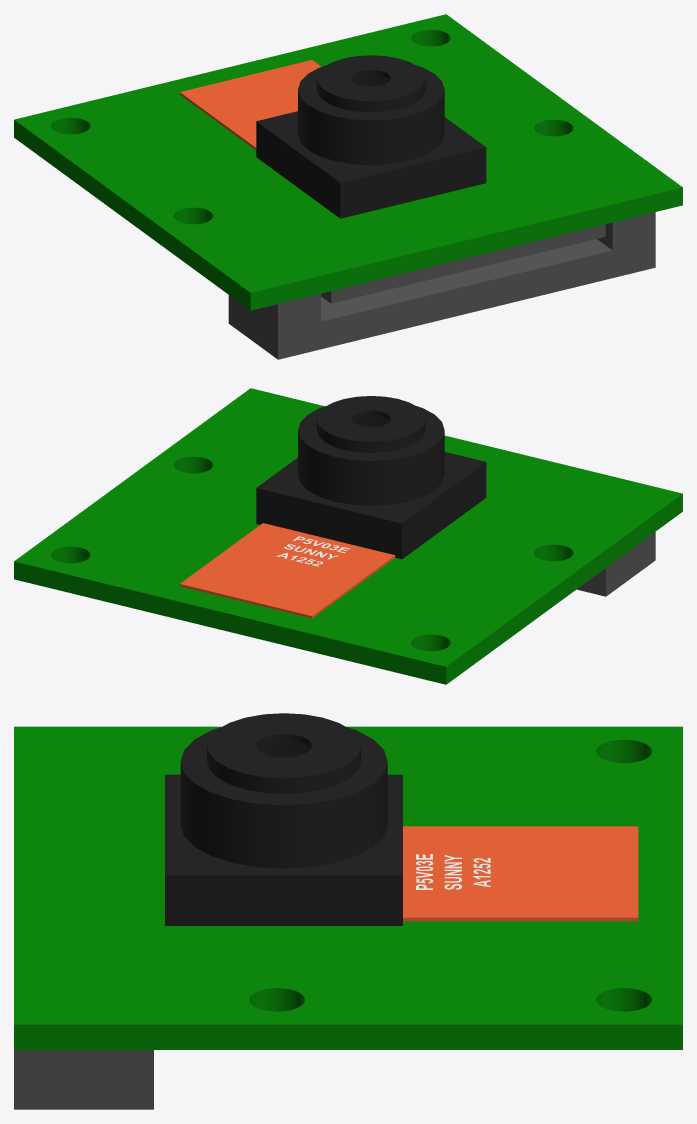
Rendered from picam.dae.
3 views of the same model, one above another, from view 1: azimuth 30°, elevation 25°; view 2: azimuth 150°, elevation 25°; view 3: azimuth 270°, elevation 25° (orthographic). The views are drawn at different scales.
Visible parts, largest first — view 1: SketchUp (×5), Spy_Camera_for_Raspberry_Pi_1 (×4), Component_3; view 2: SketchUp (×5), Spy_Camera_for_Raspberry_Pi_1 (×4), Component_3; view 3: SketchUp (×4), Spy_Camera_for_Raspberry_Pi_1 (×4), Component_3.
Part boxes in pixels (x1,y1,x2,y2): SketchUp (×5): (14,14,682,310); Spy_Camera_for_Raspberry_Pi_1 (×4): (180,55,486,218); Component_3: (228,212,655,359); SketchUp (×5): (14,388,682,684); Spy_Camera_for_Raspberry_Pi_1 (×4): (180,396,486,618); Component_3: (577,532,655,596); SketchUp (×4): (14,726,682,1049); Spy_Camera_for_Raspberry_Pi_1 (×4): (165,713,638,925); Component_3: (14,1050,153,1109).
Size of the model in its own units: 0.9921 by 0.9409 by 0.363.
